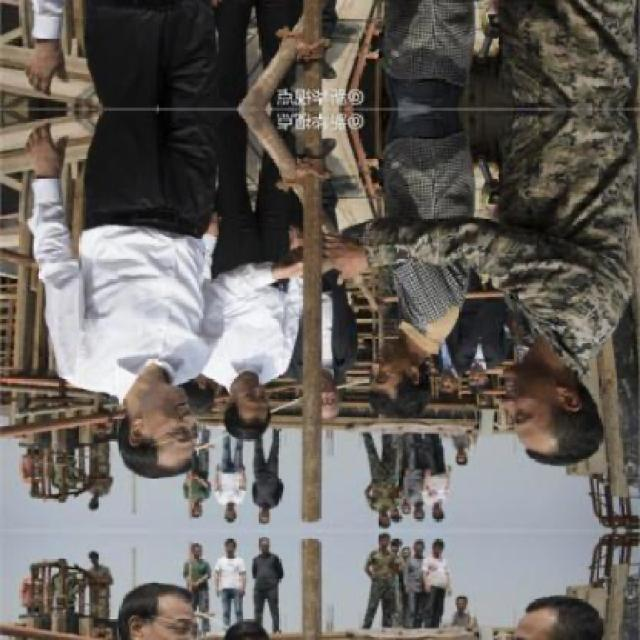sin casco: (463, 297, 616, 474), (86, 336, 218, 482), (340, 312, 501, 418), (209, 362, 309, 459), (472, 332, 508, 408)
